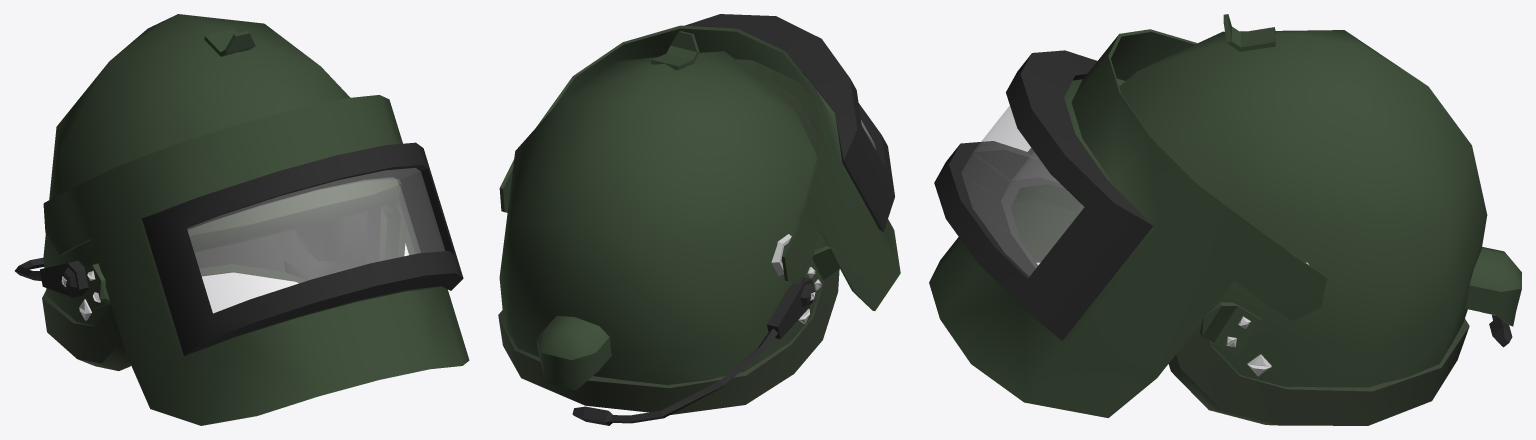
The model's file is helmet_heavy.glb.
3 views of the same model, side by side, from view 1: azimuth 30°, elevation 25°; view 2: azimuth 150°, elevation 25°; view 3: azimuth 270°, elevation 25° (orthographic). The views are drawn at different scales.
Parts seen in each view (by area): view 1: item; view 2: item; view 3: item.
Boxes of the visible parts, x1,y1,x2,y2 form: item: (15,14,469,425); item: (498,14,900,425); item: (929,14,1521,425).
Size of the model in its own units: 0.2021 by 0.1983 by 0.31.
